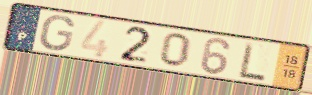0: (157, 32, 194, 69)
2: (119, 26, 153, 66)
4: (78, 18, 111, 60)
6: (198, 36, 232, 76)
G: (37, 14, 77, 52)
L: (238, 40, 268, 83)
